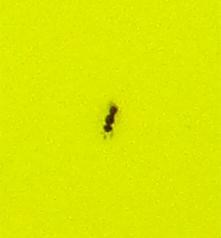Hymenoptera: (100, 100, 121, 138)
